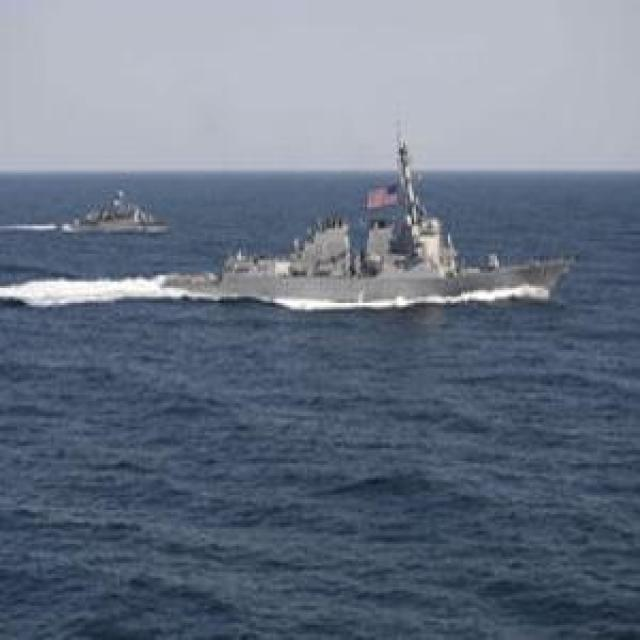navalvessels: (178, 122, 569, 306), (68, 188, 172, 238)
